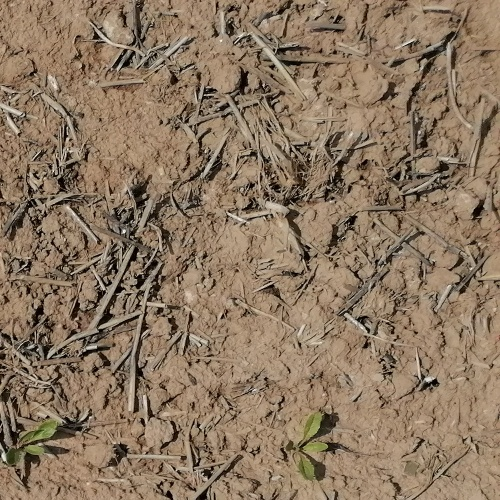beet: (286, 411, 325, 481), (3, 421, 57, 468)
